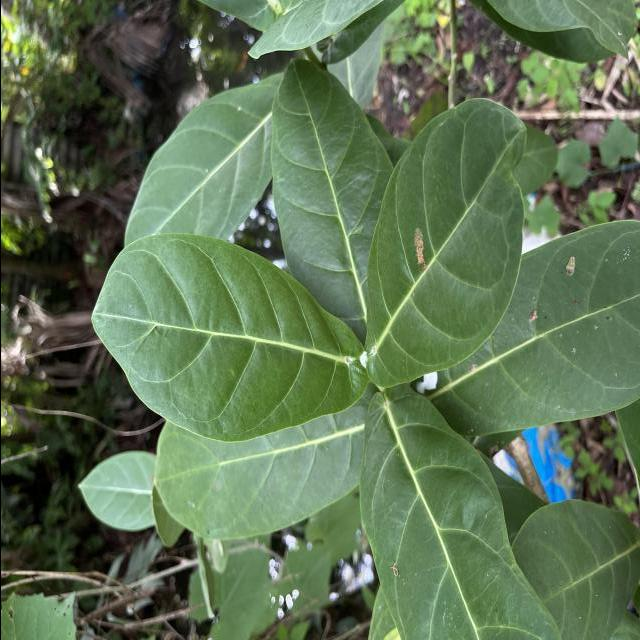Calotropis gigantea: (87, 230, 369, 446), (358, 385, 564, 640), (414, 214, 640, 438), (359, 96, 530, 388), (268, 53, 395, 328), (150, 398, 374, 544), (121, 71, 282, 263), (76, 448, 152, 532)
